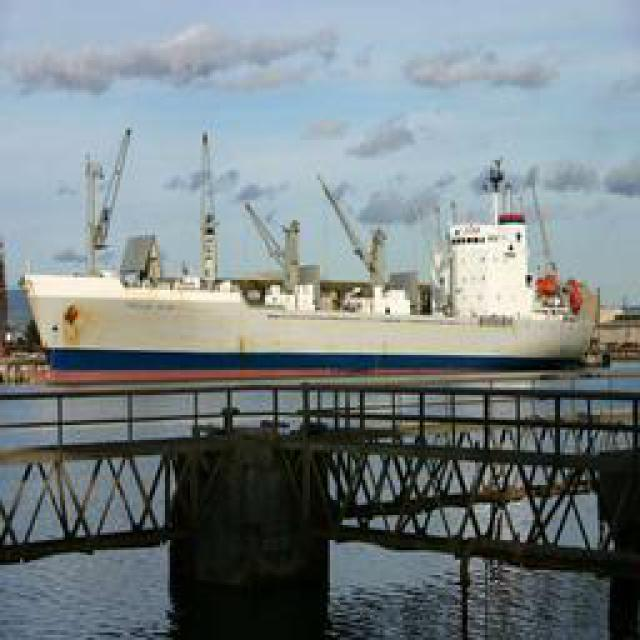Ship: (21, 151, 614, 379)
